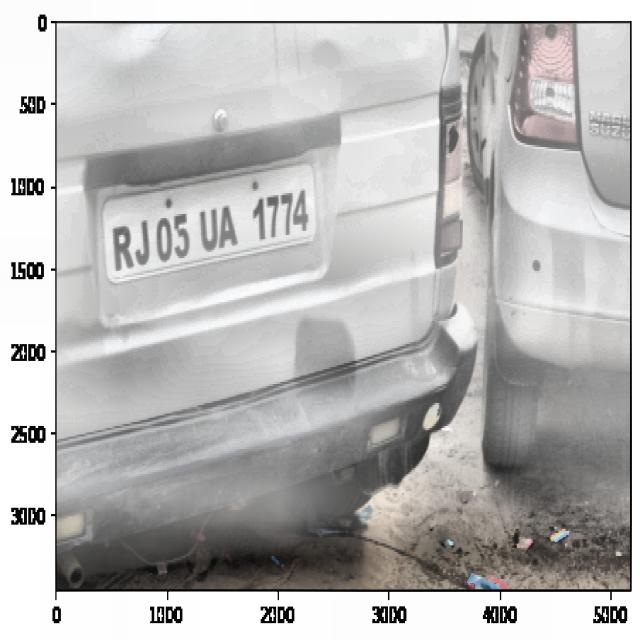license_plate: (108, 182, 313, 276)
